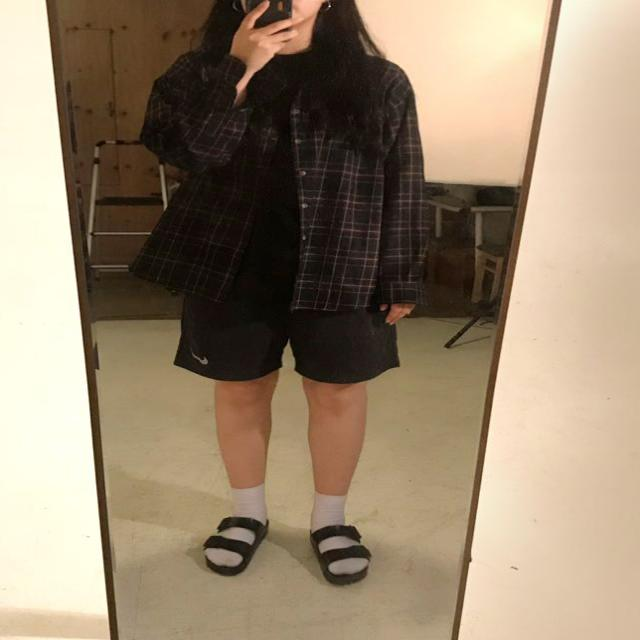shirt: (133, 36, 430, 311)
shortpants: (173, 285, 401, 385)
